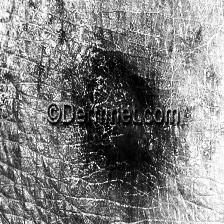Benign Marking or Mole: (77, 51, 161, 175)
